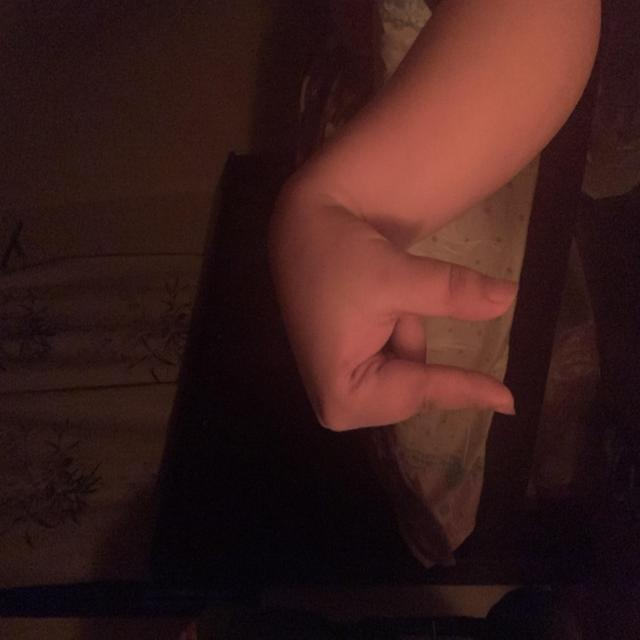Q: (208, 270, 436, 520)
